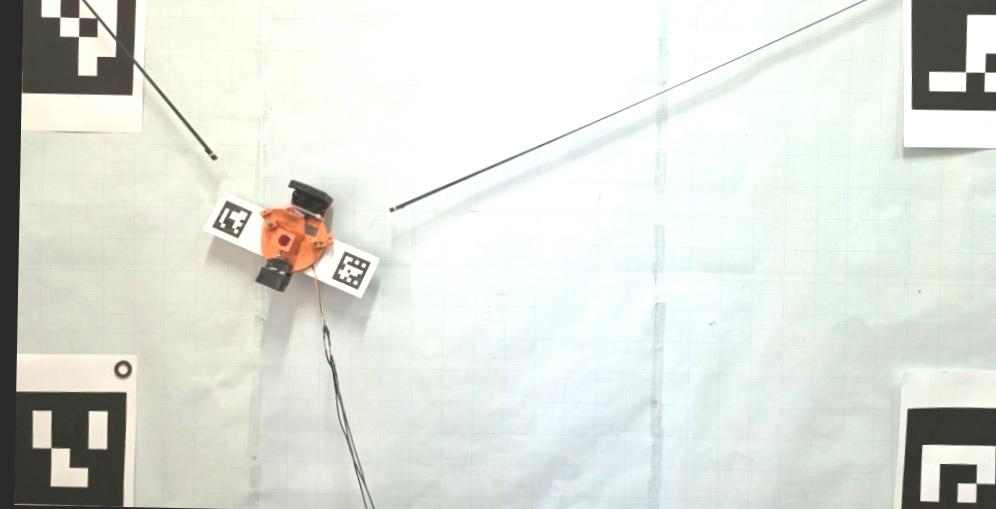robot: (255, 181, 335, 292)
